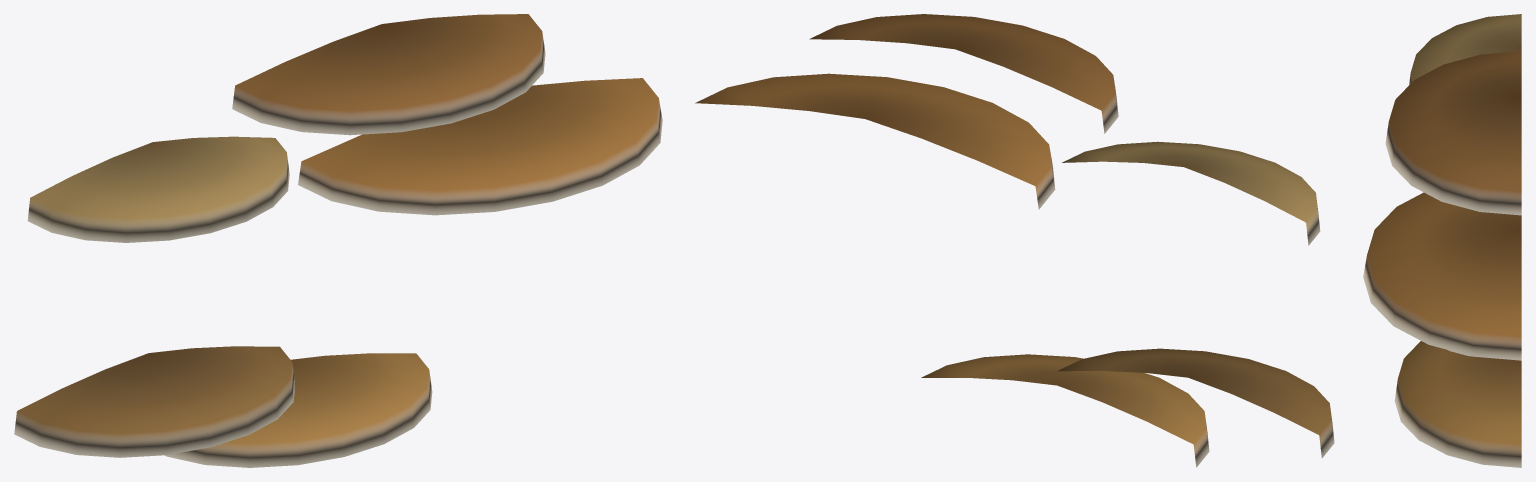
The model's file is fungus-bracket-a.lod0.glb.
3 renders of one model, left to right at view 1: azimuth 30°, elevation 25°; view 2: azimuth 150°, elevation 25°; view 3: azimuth 270°, elevation 25°, orthographic.
Parts seen in each view (by area): view 1: fungus-bracket-a.lod0; view 2: fungus-bracket-a.lod0; view 3: fungus-bracket-a.lod0.
Boxes of the visible parts, box(x1,y1,x2,y2) form: fungus-bracket-a.lod0: box(14, 14, 662, 467); fungus-bracket-a.lod0: box(695, 14, 1334, 467); fungus-bracket-a.lod0: box(1363, 14, 1521, 467).
Size of the model in its own units: 0.4628 by 0.2524 by 0.1025.
